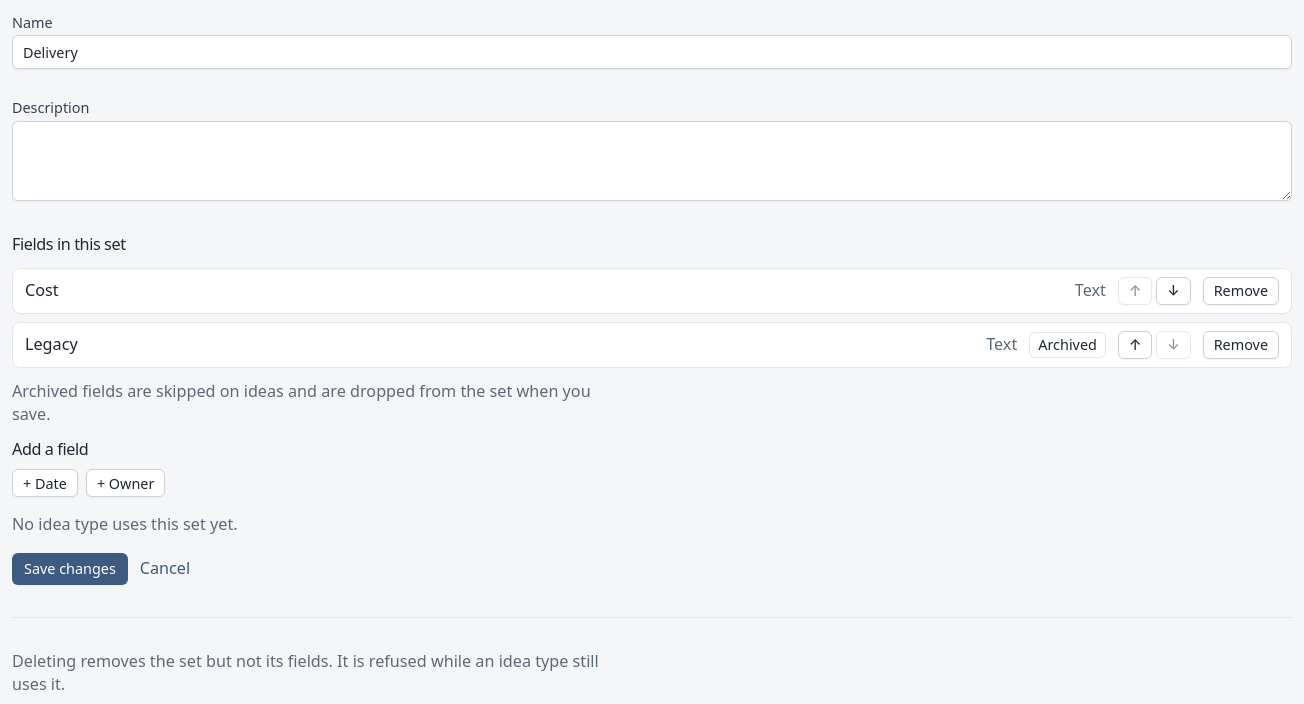
Test: the fieldset editor › can empty the set
The width and height of the screenshot is (1304, 704).
Click the button with aria-label "Remove Cost": (1241, 291) [1203,277,1279,305]
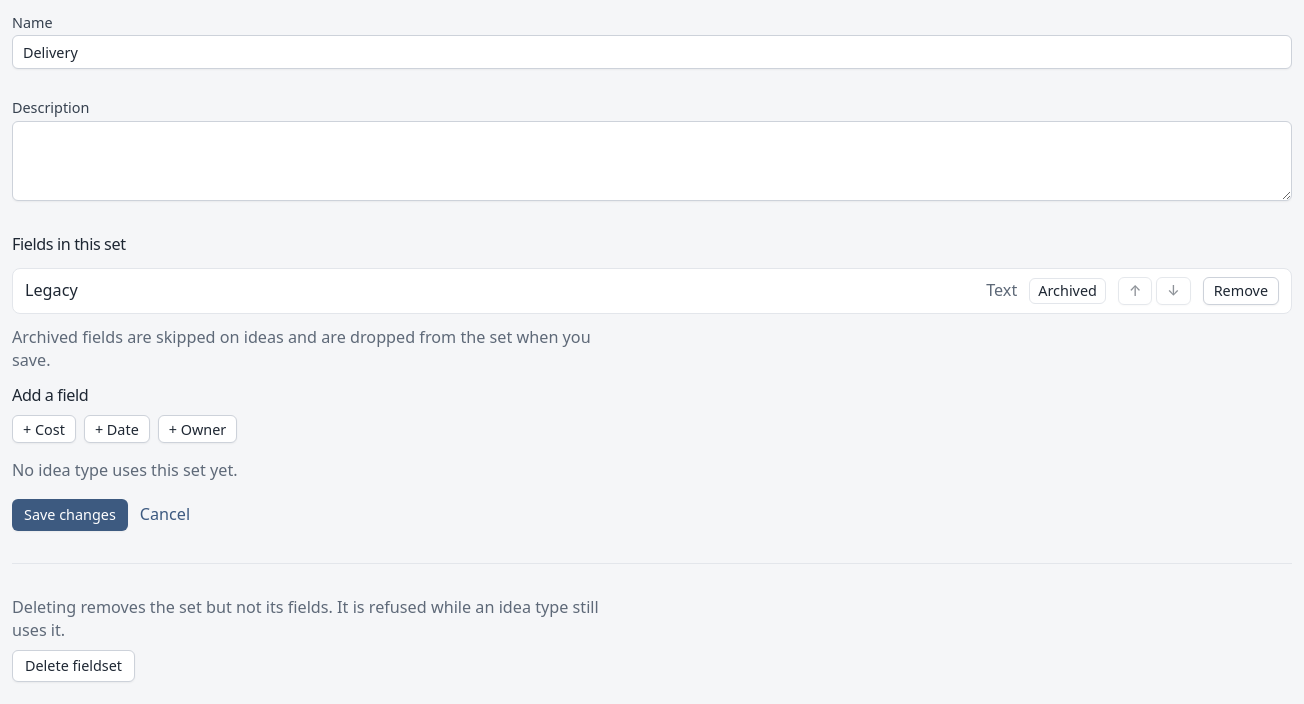
Click the button with aria-label "Remove Legacy": (1241, 291) [1203,277,1279,305]
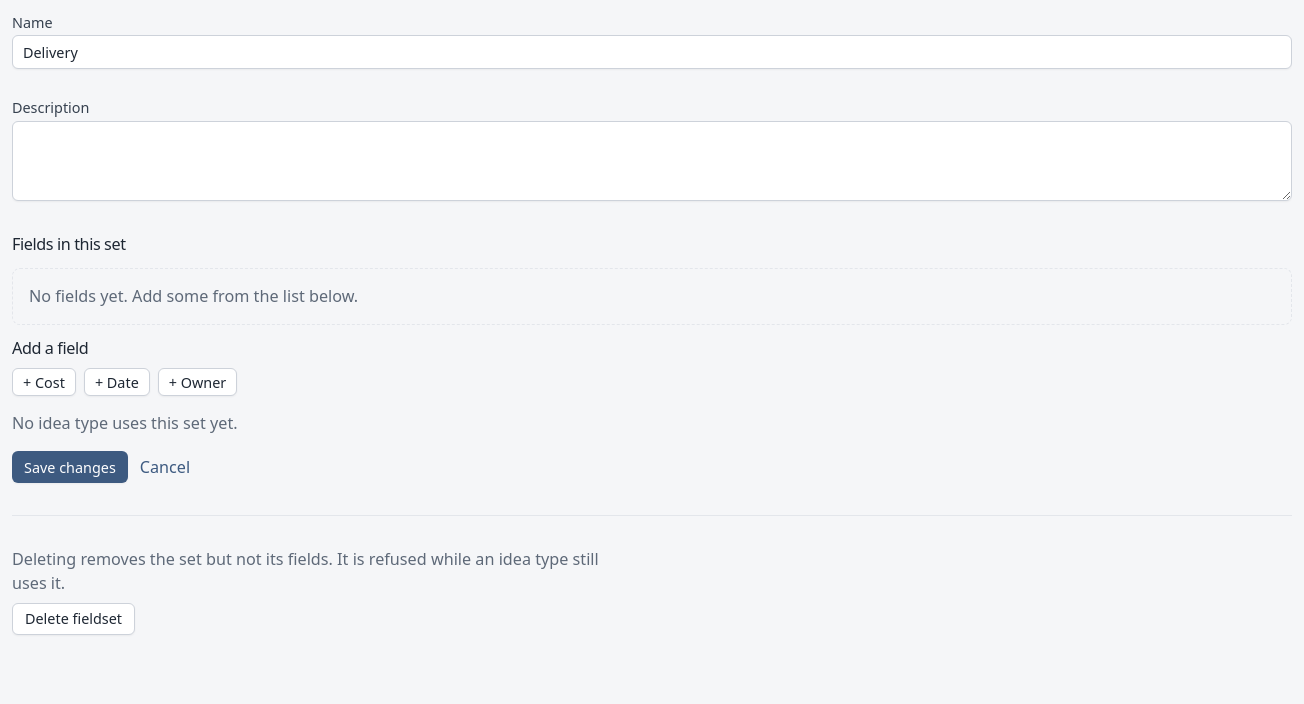
Check: the text "No fields yet. Add some from the list below." is shown, box [12,268,1292,325]
